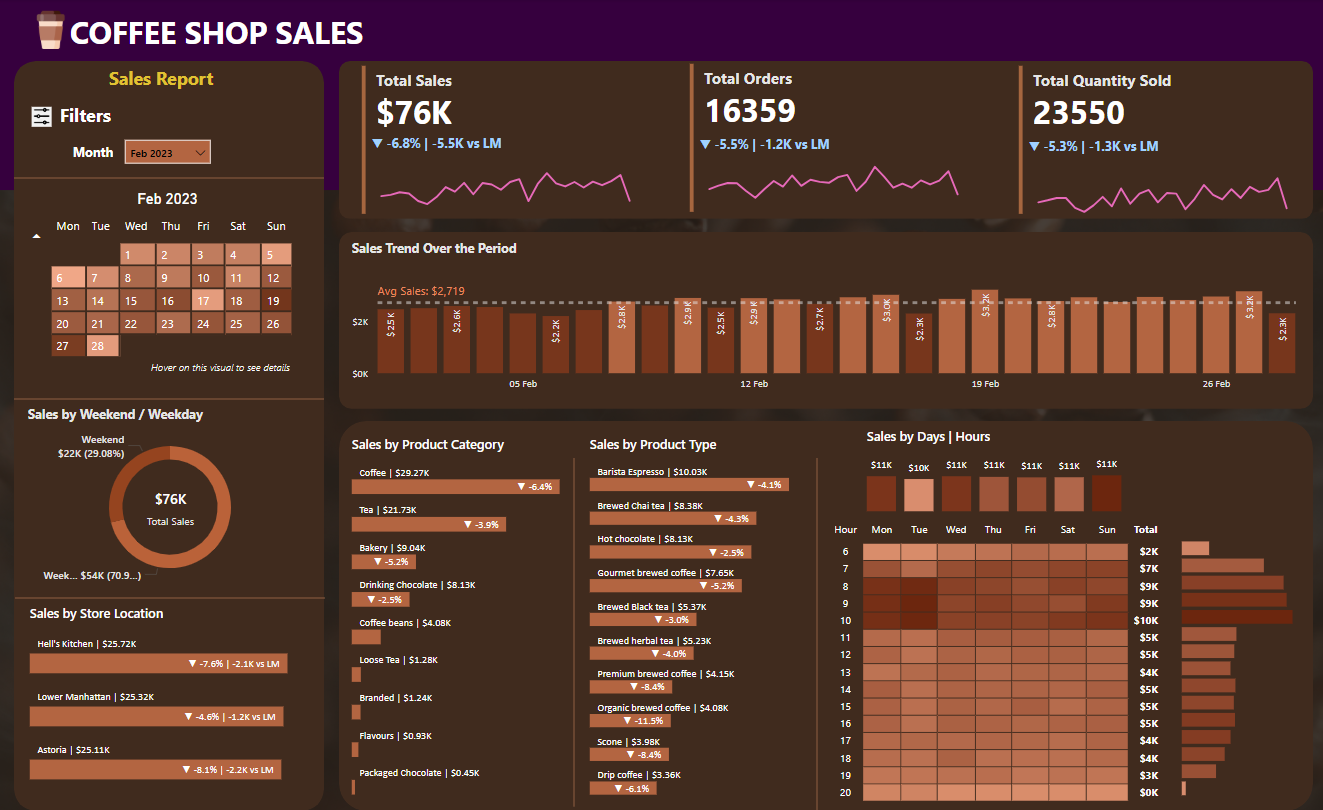

The page's visual inventory and layout, read from the dashboard file:
{"tool":"powerbi","page":{"name":"Dashboard","canvas":[1400,850],"ordinal":2},"visuals":[{"type":"shape","box":[0,0,1399.6,200],"z":0},{"type":"shape","box":[25.1,64.9,324.5,785.1],"z":1000},{"type":"shape","box":[365.3,64.9,1019.6,165.4],"z":2000},{"type":"textbox","box":[78.5,7.3,325.6,57.6],"z":3000},{"type":"cardVisual","fields":{"Data":["_Measures.Total Orders"]},"box":[728,62.8,300.4,165.4],"z":4000,"group":"g2"},{"type":"cardVisual","fields":{"Data":["_Measures.Sales"]},"box":[384.2,64.9,300.4,165.4],"z":4000,"group":"g1"},{"type":"cardVisual","fields":{"Data":["_Measures.Total Quantity Sold"]},"box":[1071.9,64.9,300.4,165.4],"z":4000,"group":"g3"},{"type":"slicer","fields":{"Values":["Date Table.Month Year"]},"box":[136.1,142.4,100.5,38.7],"z":4000},{"type":"group","id":"g1","title":"Group 1","box":[384.2,64.9,300.4,165.4],"z":5000},{"type":"group","id":"g2","title":"Group 2","box":[728,62.8,300.4,165.4],"z":6000},{"type":"lineChart","fields":{"Category":["Date Table.Date.Variation.Date Hierarchy.Year","Date Table.Date.Variation.Date Hierarchy.Quarter","Date Table.Date.Variation.Date Hierarchy.Month","Date Table.Date.Variation.Date Hierarchy.Day"],"Y":["_Measures.Total Sales"]},"box":[394.7,142.4,290,84.8],"z":6000,"group":"g1"},{"type":"lineChart","fields":{"Category":["Date Table.Date.Variation.Date Hierarchy.Year","Date Table.Date.Variation.Date Hierarchy.Quarter","Date Table.Date.Variation.Date Hierarchy.Month","Date Table.Date.Variation.Date Hierarchy.Day"],"Y":["_Measures.Total Orders"]},"box":[738.1,143.3,290,84.8],"z":6000,"group":"g2"},{"type":"lineChart","fields":{"Category":["Date Table.Date.Variation.Date Hierarchy.Year","Date Table.Date.Variation.Date Hierarchy.Quarter","Date Table.Date.Variation.Date Hierarchy.Month","Date Table.Date.Variation.Date Hierarchy.Day"],"Y":["_Measures.Total Quantity Sold"]},"box":[1082,145.4,290,84.8],"z":6000,"group":"g3"},{"type":"group","id":"g3","title":"Group 2","box":[1071.9,64.9,300.4,165.4],"z":7000},{"type":"pivotTable","fields":{"Rows":["Date Table.Week Number"],"Columns":["Date Table.Day Name"],"Values":["Min(Date Table.Day Number)"]},"box":[34.5,221.2,304.6,190.5],"z":8000},{"type":"card","fields":{"Values":["Min(Date Table.Month Year)"]},"box":[142.4,194.4,86.9,30.4],"z":9000},{"type":"card","fields":{"Values":["_Measures.Foot Note"]},"box":[126.7,367.4,229.2,40.8],"z":10000},{"type":"shape","box":[25.1,408.3,324.5,20.9],"z":11000},{"type":"shape","box":[25.1,176.9,324.5,20.9],"z":12000},{"type":"donutChart","title":"Sales by Weekend / Weekday","fields":{"Category":["Date Table.Weekend / Weekday"],"Y":["_Measures.Total Sales"]},"box":[34.5,425.7,307.8,194.7],"z":13000},{"type":"card","fields":{"Values":["_Measures.Total Sales"]},"box":[151.8,500.4,74.3,63.9],"z":14000},{"type":"shape","box":[26.2,616.9,324.5,20.9],"z":15000},{"type":"clusteredBarChart","title":"Sales by Store Location","fields":{"Category":["Transactions.store_location"],"Y":["_Measures.Placeholder","_Measures.Total Sales"]},"box":[36.6,634.4,305.7,190.5],"z":16000},{"type":"shape","box":[365.3,243.9,1019.6,185.3],"z":17000},{"type":"columnChart","title":"Sales Trend Over the Period","fields":{"Category":["Transactions.transaction_date"],"Y":["_Measures.Total Sales"]},"box":[373.7,252.3,998.6,166.4],"z":18000},{"type":"shape","box":[365.3,441.7,1019.6,408.3],"z":19000},{"type":"clusteredBarChart","title":"Sales by Product Category","fields":{"Y":["_Measures.Placeholder","_Measures.Total Sales"],"Category":["Transactions.product_category"]},"box":[373.7,457.5,250.2,381],"z":20000},{"type":"shape","box":[598.8,480.5,25.1,365.3],"z":21000},{"type":"clusteredBarChart","title":"Sales by Product Type","fields":{"Y":["_Measures.Placeholder","_Measures.Total Sales"],"Category":["Transactions.product_type"]},"box":[622.8,457.5,250.2,381],"z":22000},{"type":"shape","box":[853.1,480.5,25.1,369.5],"z":23000},{"type":"pivotTable","fields":{"Rows":["Transactions.Hour"],"Columns":["Date Table.Day Name"],"Values":["_Measures.Total Sales"]},"box":[873,542.2,369.5,307.8],"z":24000},{"type":"barChart","fields":{"Category":["Transactions.Hour"],"Y":["_Measures.Total Sales"]},"box":[1242.5,554.8,129.8,283.7],"z":25000},{"type":"columnChart","title":"Sales by Days | Hours","fields":{"Y":["_Measures.Total Sales"],"Category":["Date Table.Day Name"]},"box":[912.8,449.1,277.4,93.2],"z":26000},{"type":"textbox","box":[81.7,146.6,63.9,27.2],"z":27000},{"type":"textbox","box":[119.3,64.9,134,37.7],"z":28000},{"type":"image","box":[34.5,7.3,57.6,50.2],"z":29000},{"type":"textbox","box":[68,103.6,87.9,39.8],"z":30000},{"type":"image","box":[34.5,107.8,38.7,31.4],"z":31000}]}

Visuals, with their boxes in screenshot pixels (x1, y1, x2, y2), scaled from the page's 1400x850 canvas onto the 1323x810 screenshot:
shape: x1=0, y1=0, x2=1322, y2=191
shape: x1=24, y1=62, x2=330, y2=809
shape: x1=345, y1=62, x2=1309, y2=219
textbox: x1=74, y1=7, x2=382, y2=62
cardVisual - _Measures.Total Orders: x1=688, y1=60, x2=972, y2=217
cardVisual - _Measures.Sales: x1=363, y1=62, x2=647, y2=219
cardVisual - _Measures.Total Quantity Sold: x1=1013, y1=62, x2=1297, y2=219
slicer - Date Table.Month Year: x1=129, y1=136, x2=224, y2=173
"Group 1" group: x1=363, y1=62, x2=647, y2=219
"Group 2" group: x1=688, y1=60, x2=972, y2=217
lineChart - Date Table.Date.Variation.Date Hierarchy.Year x Date Table.Date.Variation.Date Hierarchy.Quarter: x1=373, y1=136, x2=647, y2=217
lineChart - Date Table.Date.Variation.Date Hierarchy.Year x Date Table.Date.Variation.Date Hierarchy.Quarter: x1=698, y1=137, x2=972, y2=217
lineChart - Date Table.Date.Variation.Date Hierarchy.Year x Date Table.Date.Variation.Date Hierarchy.Quarter: x1=1022, y1=139, x2=1297, y2=219
"Group 2" group: x1=1013, y1=62, x2=1297, y2=219
pivotTable - Date Table.Week Number x Date Table.Day Name: x1=33, y1=211, x2=320, y2=392
card - Min(Date Table.Month Year): x1=135, y1=185, x2=217, y2=214
card - _Measures.Foot Note: x1=120, y1=350, x2=336, y2=389
shape: x1=24, y1=389, x2=330, y2=409
shape: x1=24, y1=169, x2=330, y2=188
"Sales by Weekend / Weekday" donutChart: x1=33, y1=406, x2=323, y2=591
card - _Measures.Total Sales: x1=143, y1=477, x2=214, y2=538
shape: x1=25, y1=588, x2=331, y2=608
"Sales by Store Location" clusteredBarChart: x1=35, y1=605, x2=323, y2=786
shape: x1=345, y1=232, x2=1309, y2=409
"Sales Trend Over the Period" columnChart: x1=353, y1=240, x2=1297, y2=399
shape: x1=345, y1=421, x2=1309, y2=809
"Sales by Product Category" clusteredBarChart: x1=353, y1=436, x2=590, y2=799
shape: x1=566, y1=458, x2=590, y2=806
"Sales by Product Type" clusteredBarChart: x1=589, y1=436, x2=825, y2=799
shape: x1=806, y1=458, x2=830, y2=809
pivotTable - Transactions.Hour x Date Table.Day Name: x1=825, y1=517, x2=1174, y2=809
barChart - Transactions.Hour x _Measures.Total Sales: x1=1174, y1=529, x2=1297, y2=799
"Sales by Days | Hours" columnChart: x1=863, y1=428, x2=1125, y2=517
textbox: x1=77, y1=140, x2=138, y2=166
textbox: x1=113, y1=62, x2=239, y2=98
image: x1=33, y1=7, x2=87, y2=55
textbox: x1=64, y1=99, x2=147, y2=137
image: x1=33, y1=103, x2=69, y2=133
